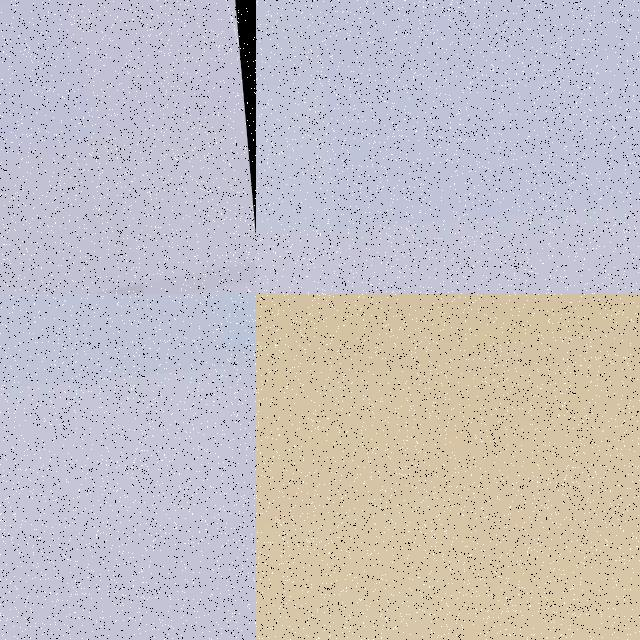0: (0, 0, 256, 294)
drone: (256, 294, 640, 640)
